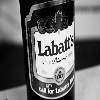beer: (17, 1, 77, 100)
